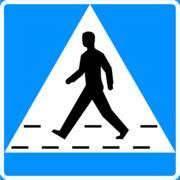Pedestrian Crossing: (8, 6, 175, 163)
